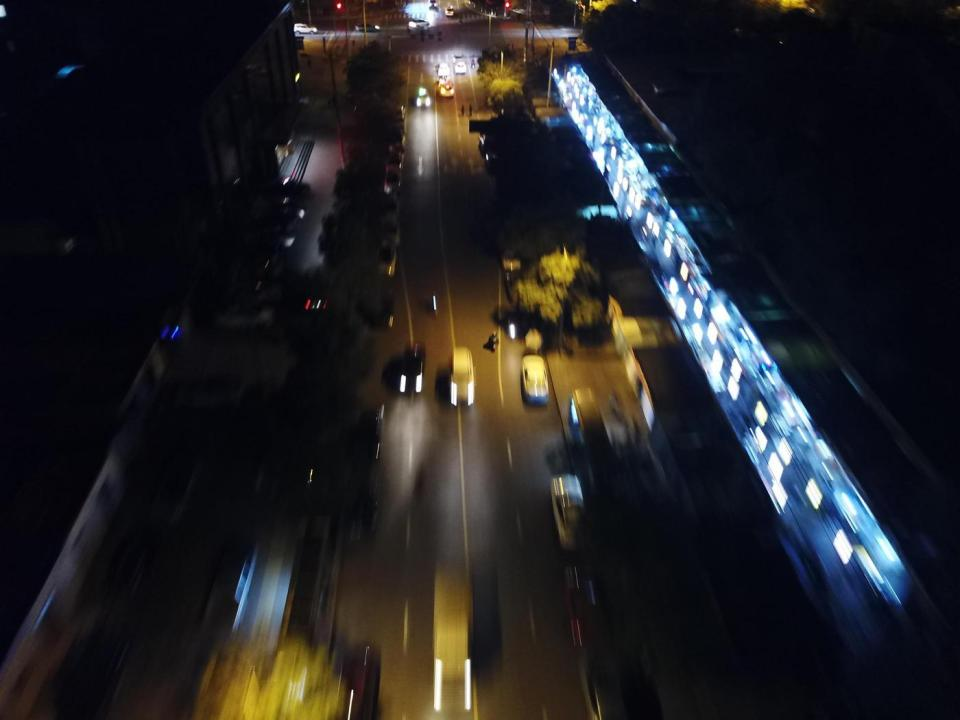bus: (565, 565, 638, 720), (570, 386, 625, 503)
car: (54, 618, 137, 720), (204, 540, 259, 640), (107, 528, 169, 600), (337, 643, 382, 720), (152, 451, 200, 521), (550, 474, 592, 550), (175, 375, 244, 410), (213, 300, 275, 330), (354, 403, 385, 461), (347, 484, 377, 536), (450, 346, 476, 406), (227, 281, 283, 307), (521, 354, 549, 404), (302, 266, 330, 313), (228, 261, 282, 285), (400, 341, 424, 393), (276, 207, 305, 248), (233, 242, 279, 266), (239, 224, 278, 248), (375, 238, 396, 278), (507, 274, 533, 304), (546, 131, 581, 152), (552, 143, 589, 162), (374, 220, 400, 246), (558, 154, 593, 173), (500, 243, 522, 272), (480, 128, 503, 154), (378, 196, 400, 220), (486, 149, 507, 173), (652, 76, 670, 98), (384, 173, 401, 194), (415, 87, 431, 108), (385, 156, 402, 175), (388, 124, 405, 143), (294, 23, 318, 34), (407, 18, 429, 30), (386, 141, 404, 154), (354, 24, 380, 32), (391, 112, 404, 127), (437, 63, 449, 76), (441, 85, 454, 97), (455, 61, 466, 74), (438, 75, 451, 86), (445, 6, 455, 16), (428, 0, 437, 10), (453, 55, 463, 62)
truck: (431, 555, 472, 712), (530, 97, 558, 114), (535, 107, 564, 122), (544, 118, 572, 132)
